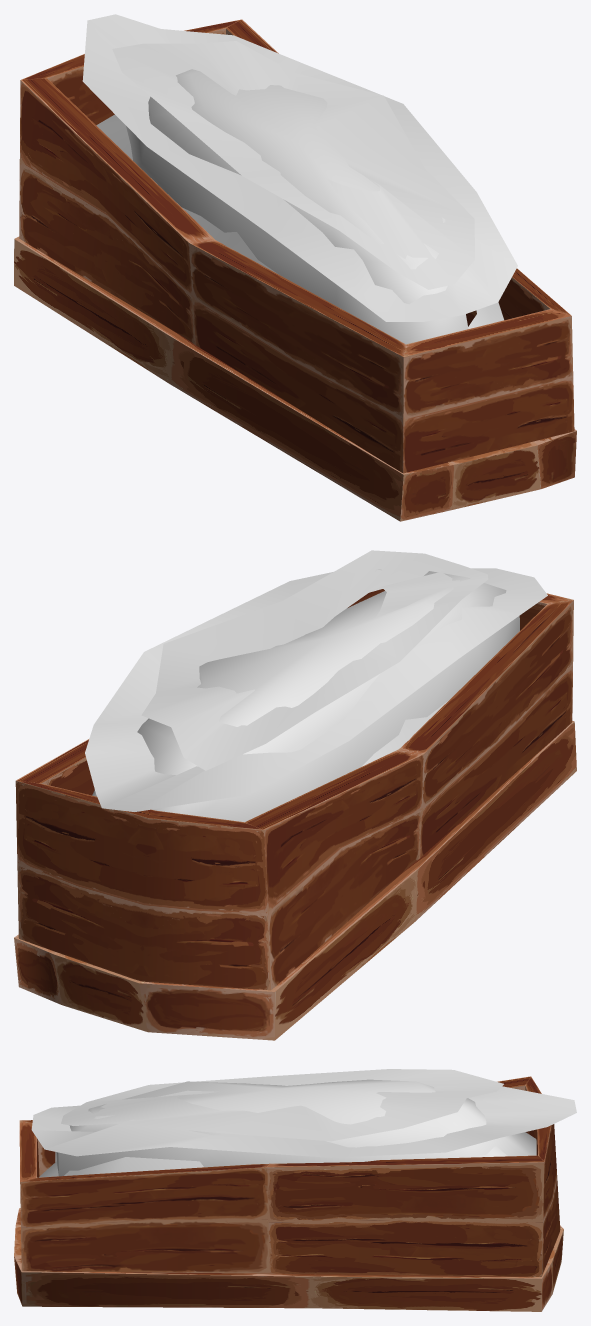
The model's file is SM_PROP_trough_01.fbx.
3 renders of one model, top to bottom at view 1: azimuth 30°, elevation 25°; view 2: azimuth 150°, elevation 25°; view 3: azimuth 270°, elevation 25°, orthographic. The views are drawn at different scales.
Visible parts, largest first — view 1: SM_PROP_trough_01; view 2: SM_PROP_trough_01; view 3: SM_PROP_trough_01.
Boxes of the visible parts, x1,y1,x2,y2 form: SM_PROP_trough_01: (14, 14, 576, 521); SM_PROP_trough_01: (14, 550, 576, 1040); SM_PROP_trough_01: (14, 1069, 576, 1311).
Size of the model in its own units: 104 by 92.4 by 261.
